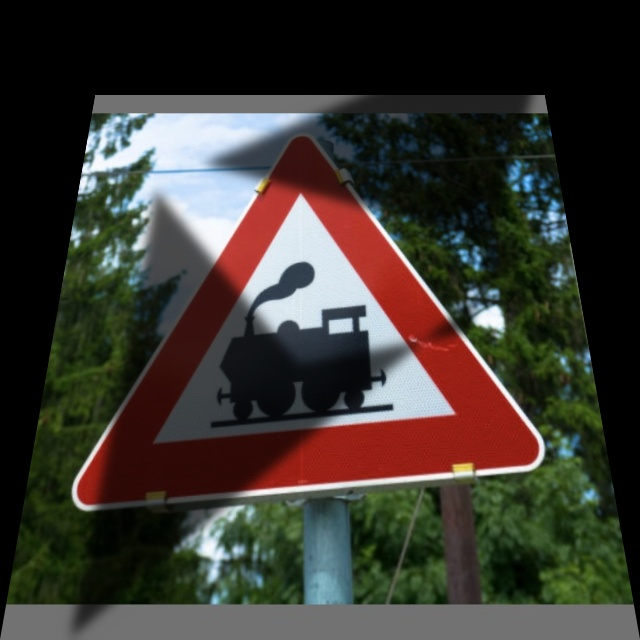Unguarded_Level_Crossing: (88, 135, 540, 497)
